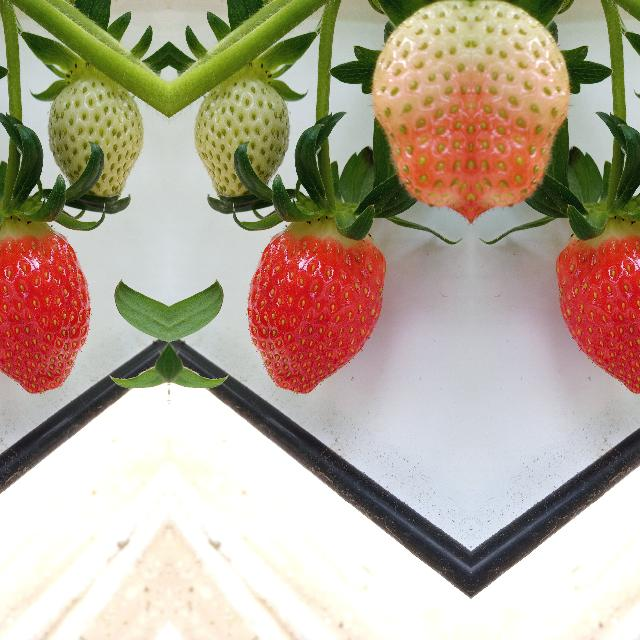Health_100: (244, 214, 386, 394), (0, 214, 91, 394), (555, 214, 640, 394)
Health_25: (191, 67, 285, 209), (51, 67, 145, 209)
Health_50: (368, 5, 470, 221), (471, 5, 573, 221)
